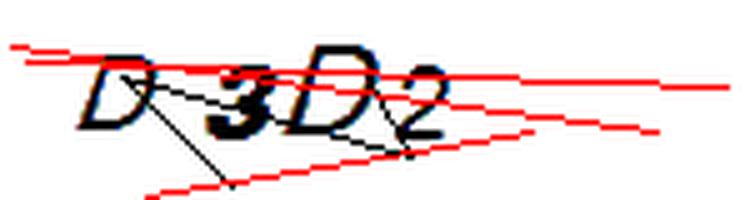2: (387, 58, 469, 144)
3: (193, 55, 284, 145)
D: (280, 38, 382, 144), (69, 45, 164, 137)
